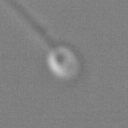normal: (1, 1, 55, 47)
